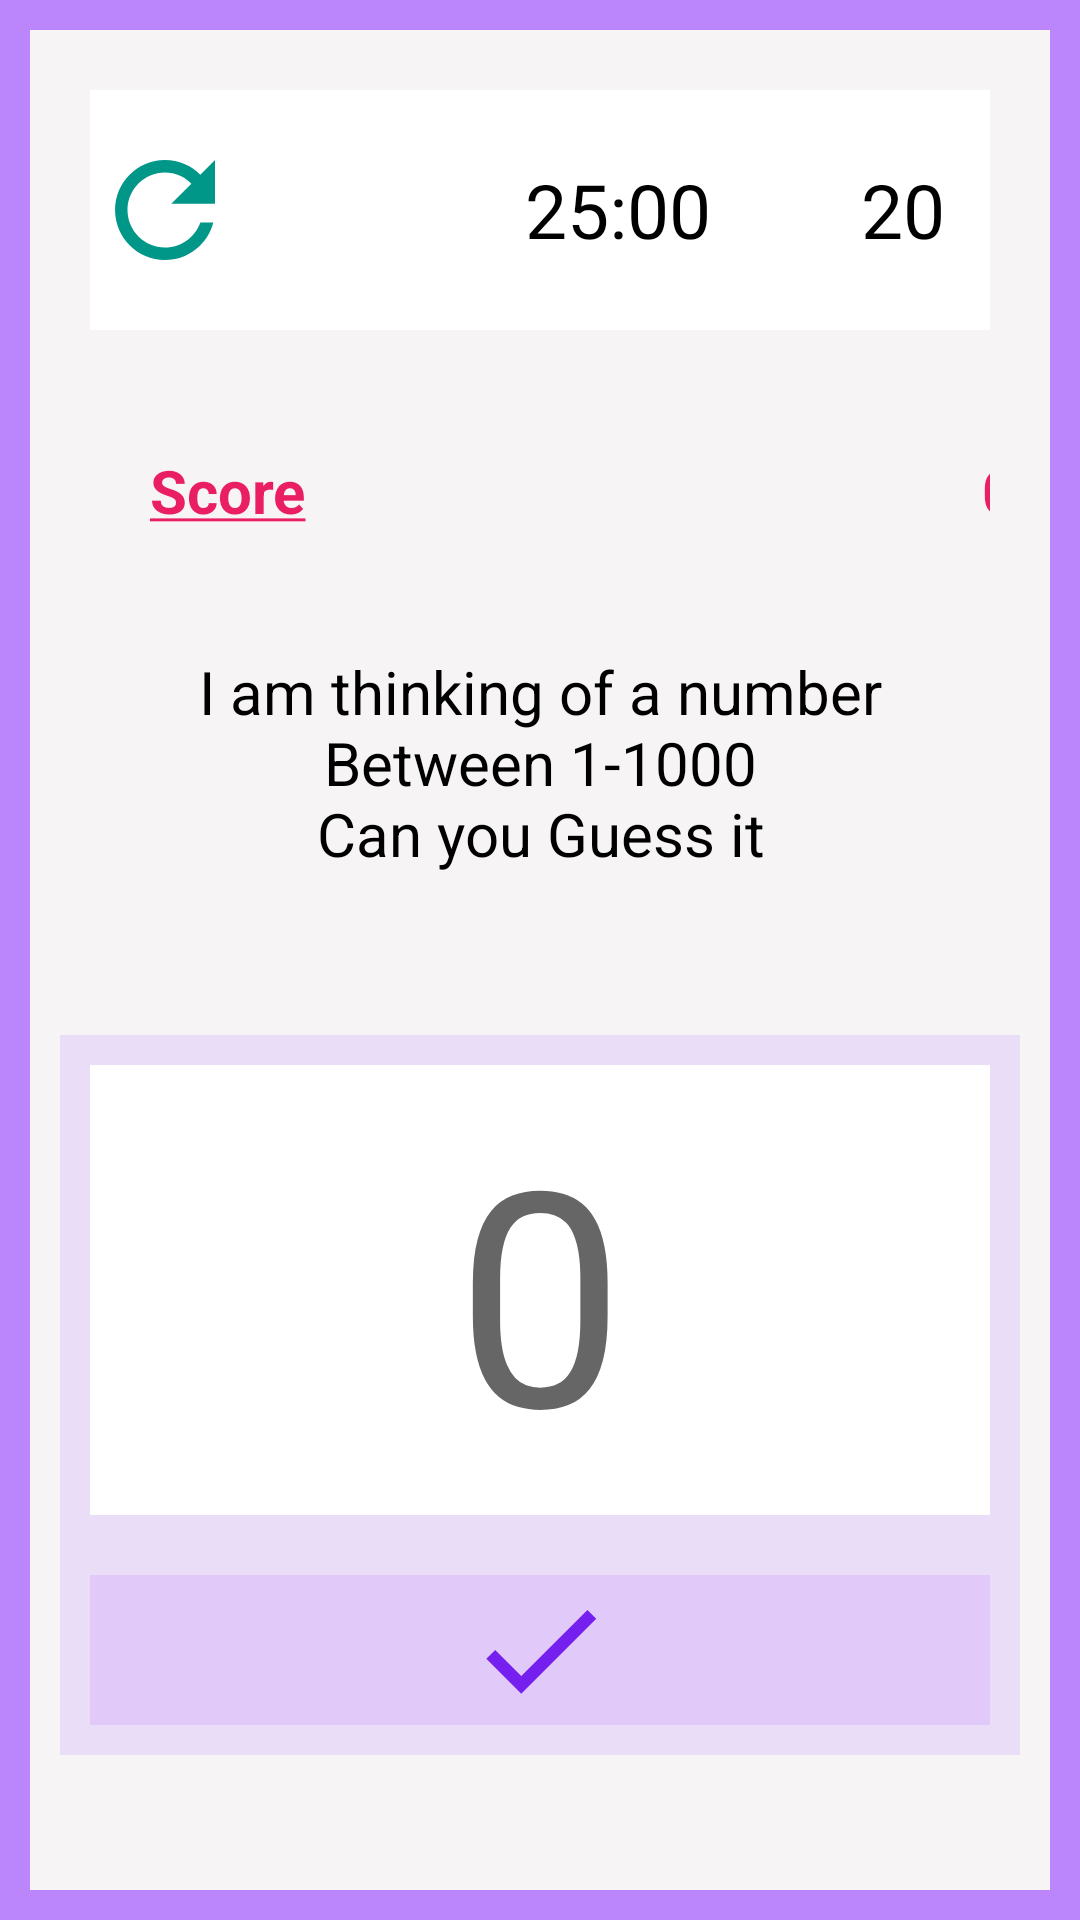

Named icons in this screenshot (1080px x 1920px) and their bounding boxes, BBox(x1, y1, x2, y2):
refresh: BBox(115, 160, 215, 260)
